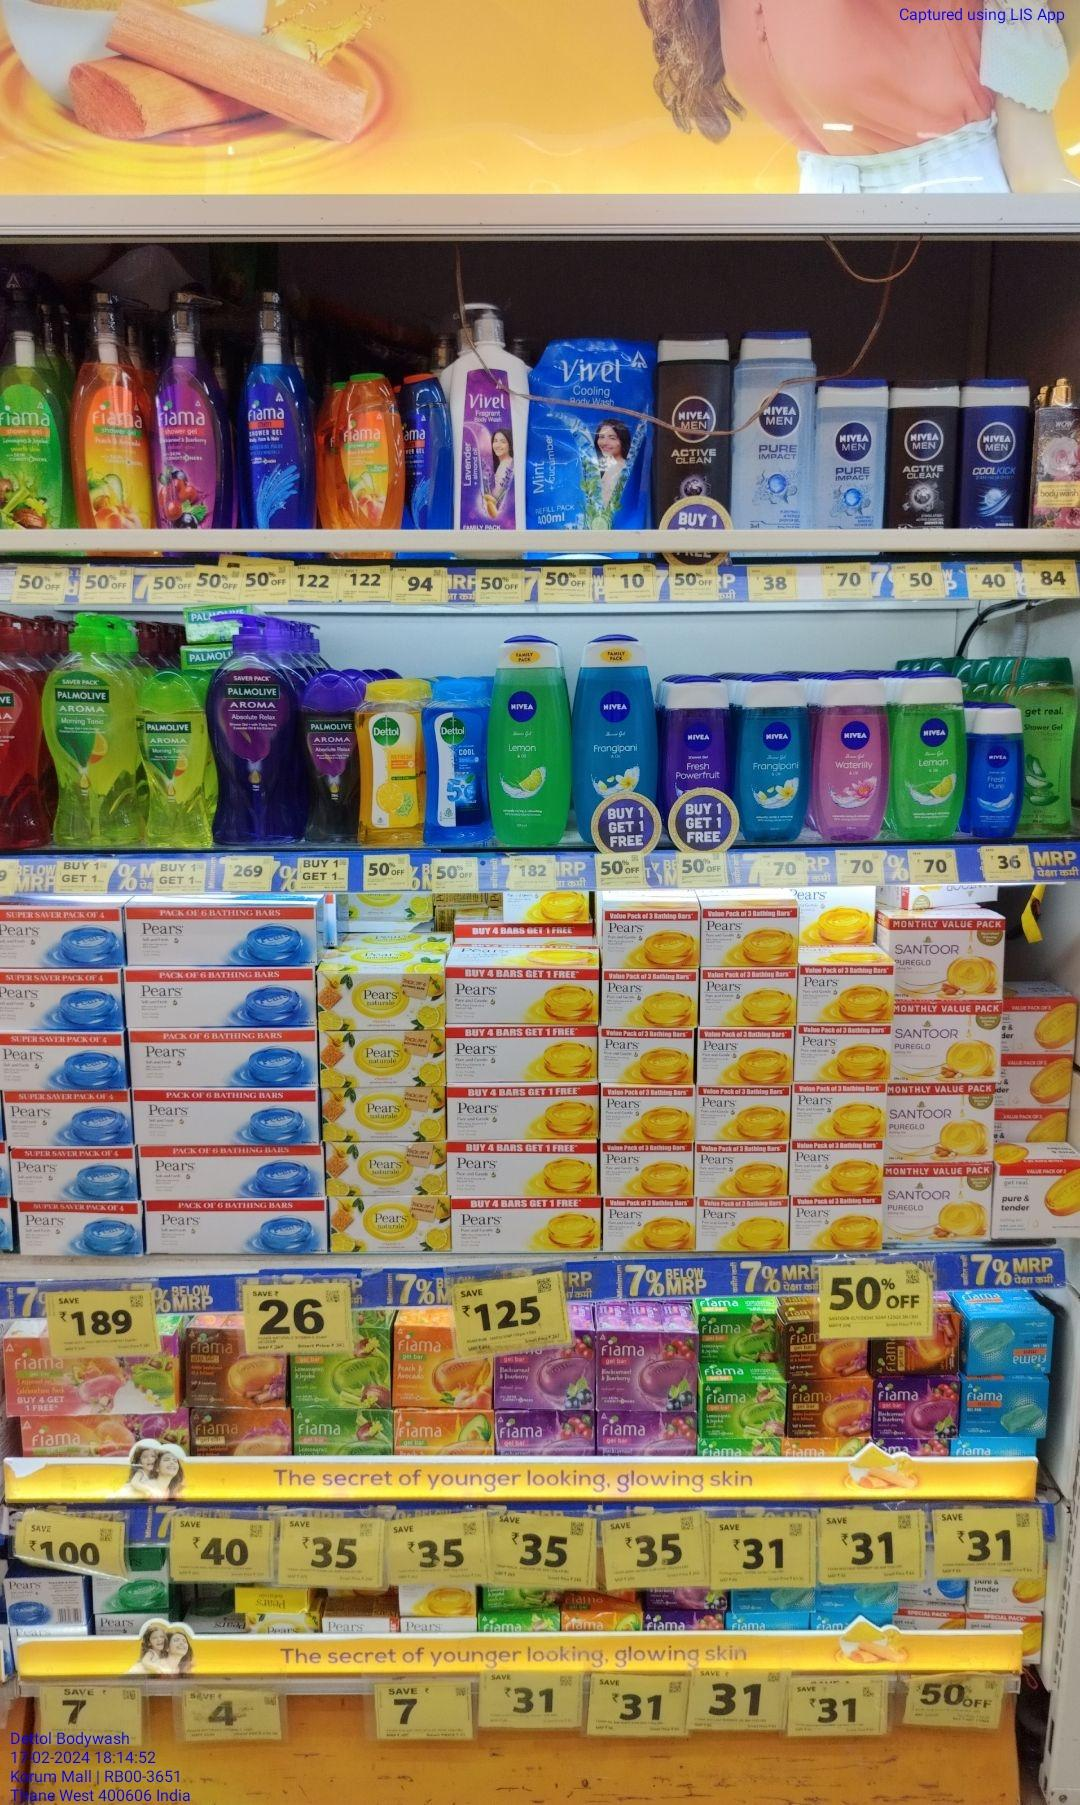Dettol_Bodywash_Cool: (424, 674, 492, 846)
Dettol_Bodywash_Refresh: (363, 678, 422, 845)
Fiama_Shower_Gel_Peach_and_Avocado_250ML: (337, 372, 405, 528)
Nivea_Shower_Gel_Frangipani_and_Oil_250ML: (576, 627, 657, 797), (737, 681, 809, 836)
Nivea_Shower_Gel_Fresh_Powerfruit_250ML: (665, 676, 734, 810)
Nivea_Shower_Gel_Lemon_and_Oil_250ML: (495, 635, 571, 854), (892, 672, 964, 834)
Nivea_Shower_Gel_Waterlily_and_Oil_250ML: (818, 679, 891, 845)
Palmolive_Aroma_Relax_250ML: (298, 676, 360, 845)
